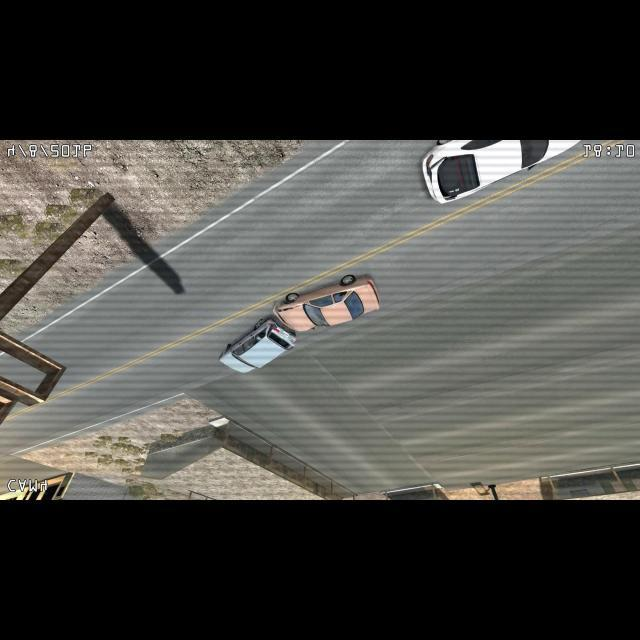moderate: (218, 276, 384, 376)
